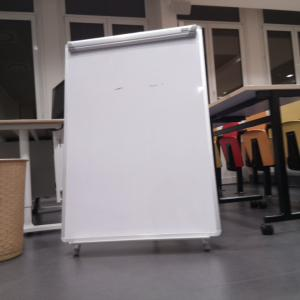big: (64, 26, 222, 257)
medium: (1, 158, 27, 266)
